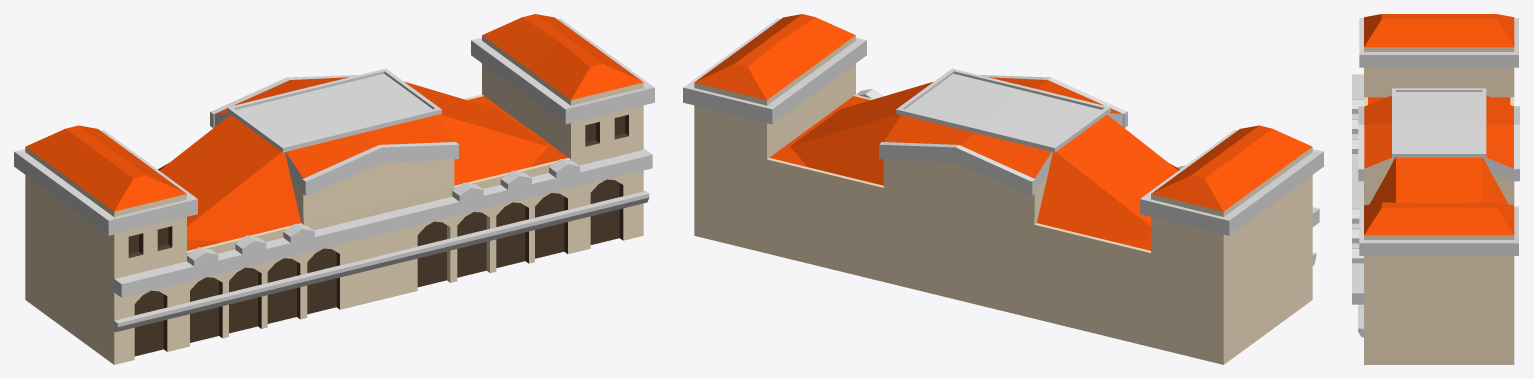
Rendered from Malacanang.fbx.
3 renders of one model, left to right at view 1: azimuth 30°, elevation 25°; view 2: azimuth 150°, elevation 25°; view 3: azimuth 270°, elevation 25°, orthographic. The views are drawn at different scales.
Parts seen in each view (by area): view 1: Cube, Cube.006, Cube.007; view 2: Cube; view 3: Cube, Cube.006, Cube.007.
Part boxes in pixels (box(x1,y1,x2,y2)): Cube: box(14, 14, 654, 364); Cube.006: box(114, 149, 652, 297); Cube.007: box(114, 191, 649, 331); Cube: box(683, 14, 1323, 364); Cube: box(1358, 14, 1519, 364); Cube.006: box(1352, 74, 1364, 304); Cube.007: box(1358, 304, 1364, 337).
Size of the model in its own units: 8391 by 2521 by 2646.
